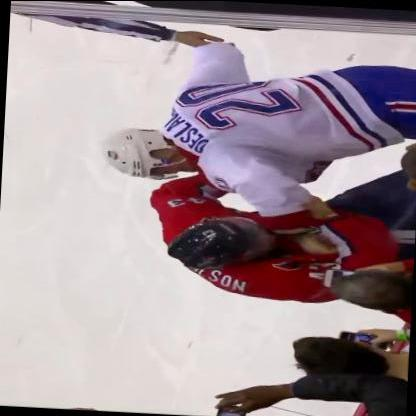voilence: (92, 35, 415, 310)
